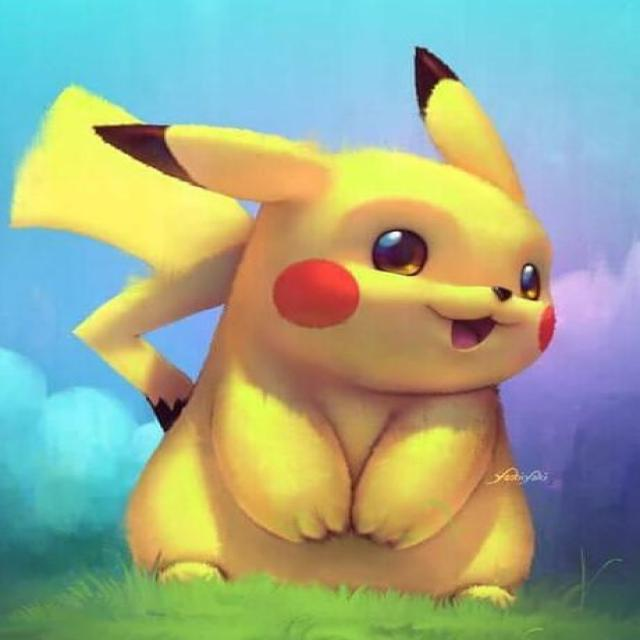pikachu: (6, 51, 555, 612)
